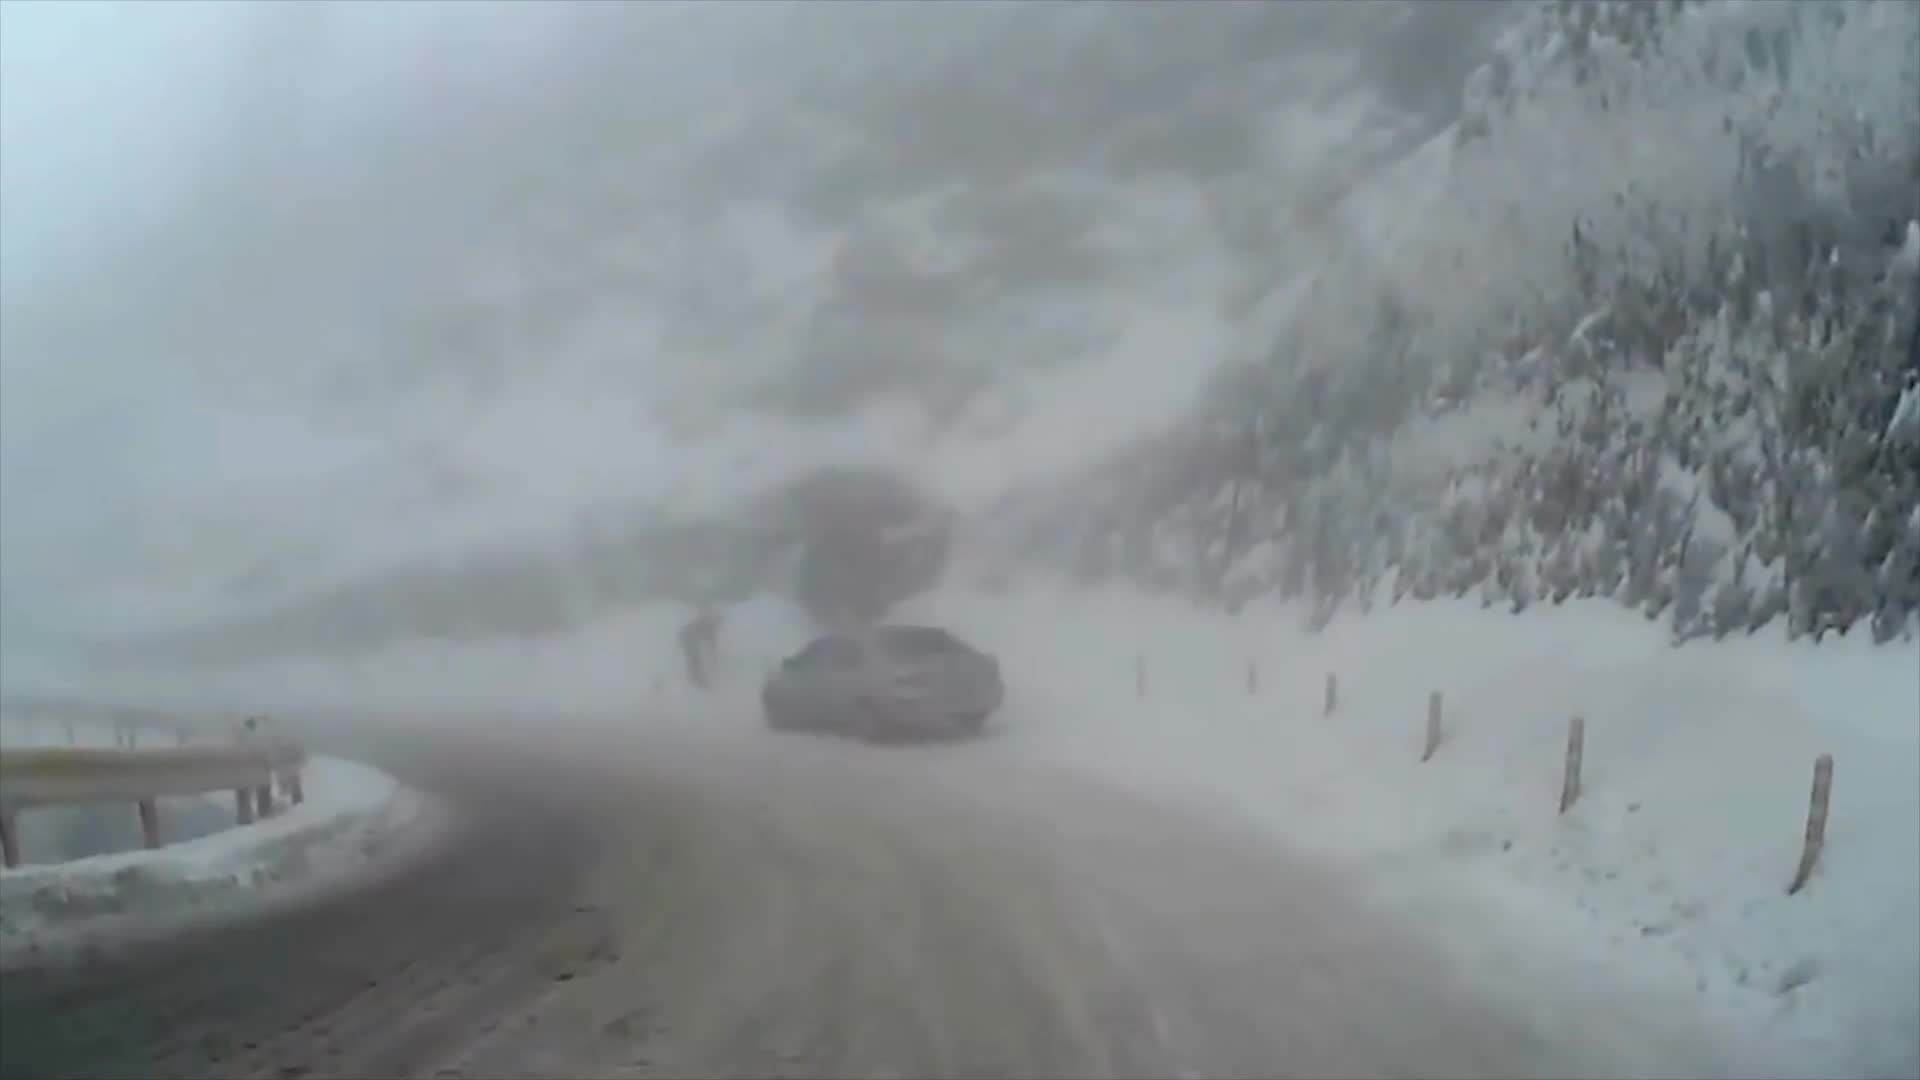pedestrian: (683, 615, 726, 697)
vehicle: (765, 630, 1007, 752)
